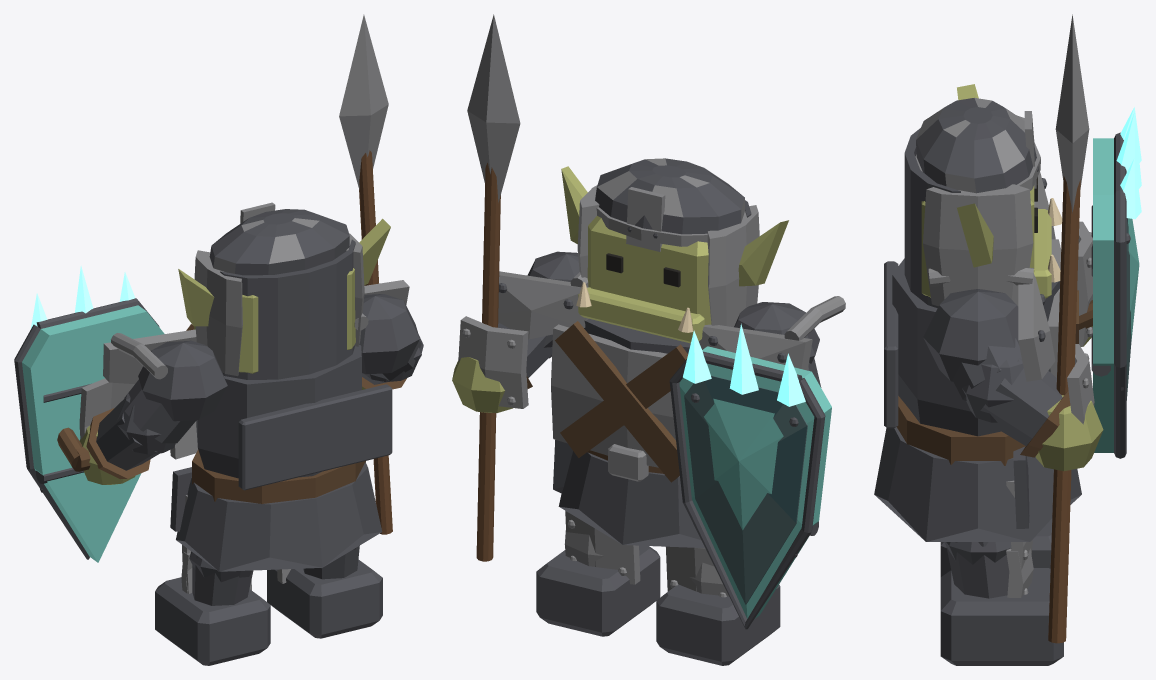
Rendered from host_41.glb.
The picture shows the model from 3 angles, left to right: view 1: azimuth 30°, elevation 25°; view 2: azimuth 150°, elevation 25°; view 3: azimuth 270°, elevation 25°; orthographic projection. The views are drawn at different scales.
Parts seen in each view (by area): view 1: V6 source prism crystal actual shield body, Leather ragged skirt, V6 source contacting small rear armor plate, V6 source actual curved fitted steel rear helmet neck guard, Tailored continuous bodice, V6 source fitted rounded metal cap, Grounded boot L, Grounded boot R, Connected shoulder L, V6 mounted knight actual continuous cap contacting cheek tem (×2), V6 phalanx source single broad faceted diamond spear head, Connected shoulder R (+21 smaller); view 2: V6 phalanx actual faceted tinted prism shield inset, V6 source prism crystal actual shield body, Leather ragged skirt, Grounded boot R, V6 source fitted rounded metal cap, Observed face, Grounded boot L, V6 phalanx actual continuous fitted metal shield perimeter f, V6 source curved fitted breastplate, Crossed leather baldric R, V6 phalanx source single broad faceted diamond spear head, V6 mounted knight actual continuous cap contacting cheek tem (×2) (+25 smaller); view 3: Leather ragged skirt, V6 mounted knight actual continuous cap contacting cheek tem, Grounded boot R, V6 source fitted rounded metal cap, V6 source prism crystal actual shield body, Tailored continuous bodice, V6 source continuous held spear shaft, Connected shoulder R, V6 phalanx actual continuous fitted metal shield perimeter f, V6 phalanx source single broad faceted diamond spear head, Continuous leather waist belt, Forearm R (+24 smaller).
Boxes of the visible parts, x1=… form: V6 source prism crystal actual shield body: x1=22, y1=305, x2=164, y2=562; Leather ragged skirt: x1=176, y1=462, x2=382, y2=571; V6 source contacting small rear armor plate: x1=238, y1=384, x2=392, y2=490; V6 source actual curved fitted steel rear helmet neck guard: x1=220, y1=239, x2=355, y2=379; Tailored continuous bodice: x1=196, y1=345, x2=361, y2=478; V6 source fitted rounded metal cap: x1=209, y1=209, x2=349, y2=275; Grounded boot L: x1=155, y1=577, x2=270, y2=665; Grounded boot R: x1=267, y1=559, x2=382, y2=638; Connected shoulder L: x1=138, y1=340, x2=227, y2=421; V6 mounted knight actual continuous cap contacting cheek tem (×2): x1=194, y1=233, x2=364, y2=376; V6 phalanx source single broad faceted diamond spear head: x1=339, y1=14, x2=388, y2=189; Connected shoulder R: x1=359, y1=294, x2=419, y2=374; V6 phalanx actual faceted tinted prism shield inset: x1=684, y1=375, x2=807, y2=604; V6 source prism crystal actual shield body: x1=679, y1=346, x2=831, y2=618; Leather ragged skirt: x1=558, y1=451, x2=704, y2=547; Grounded boot R: x1=536, y1=545, x2=660, y2=636; V6 source fitted rounded metal cap: x1=595, y1=158, x2=744, y2=234; Observed face: x1=587, y1=216, x2=711, y2=324; Grounded boot L: x1=656, y1=584, x2=780, y2=665; V6 phalanx actual continuous fitted metal shield perimeter f: x1=669, y1=351, x2=825, y2=629; V6 source curved fitted breastplate: x1=551, y1=324, x2=675, y2=467; Crossed leather baldric R: x1=555, y1=321, x2=679, y2=482; V6 phalanx source single broad faceted diamond spear head: x1=467, y1=14, x2=520, y2=202; V6 mounted knight actual continuous cap contacting cheek tem (×2): x1=577, y1=185, x2=759, y2=327; Leather ragged skirt: x1=874, y1=427, x2=1081, y2=541; V6 mounted knight actual continuous cap contacting cheek tem: x1=923, y1=184, x2=1033, y2=306; Grounded boot R: x1=940, y1=568, x2=1063, y2=665; V6 source fitted rounded metal cap: x1=916, y1=97, x2=1036, y2=193; V6 source prism crystal actual shield body: x1=1093, y1=138, x2=1139, y2=452; Tailored continuous bodice: x1=892, y1=258, x2=1060, y2=436; V6 source continuous held spear shaft: x1=1048, y1=176, x2=1080, y2=643; Connected shoulder R: x1=923, y1=289, x2=1018, y2=381; V6 phalanx actual continuous fitted metal shield perimeter f: x1=1114, y1=132, x2=1126, y2=458; V6 phalanx source single broad faceted diamond spear head: x1=1055, y1=14, x2=1089, y2=213; Continuous leather waist belt: x1=897, y1=396, x2=1025, y2=465; Forearm R: x1=980, y1=359, x2=1062, y2=445.
Size of the model in its own units: 1.37 by 1.99 by 0.7168.
